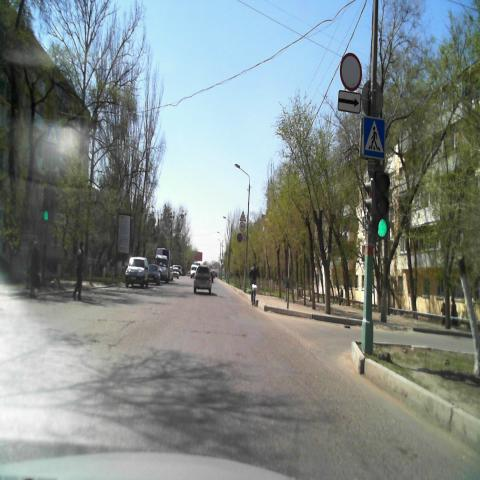3_2: (340, 53, 362, 91)
8_3_1: (336, 90, 362, 113)
